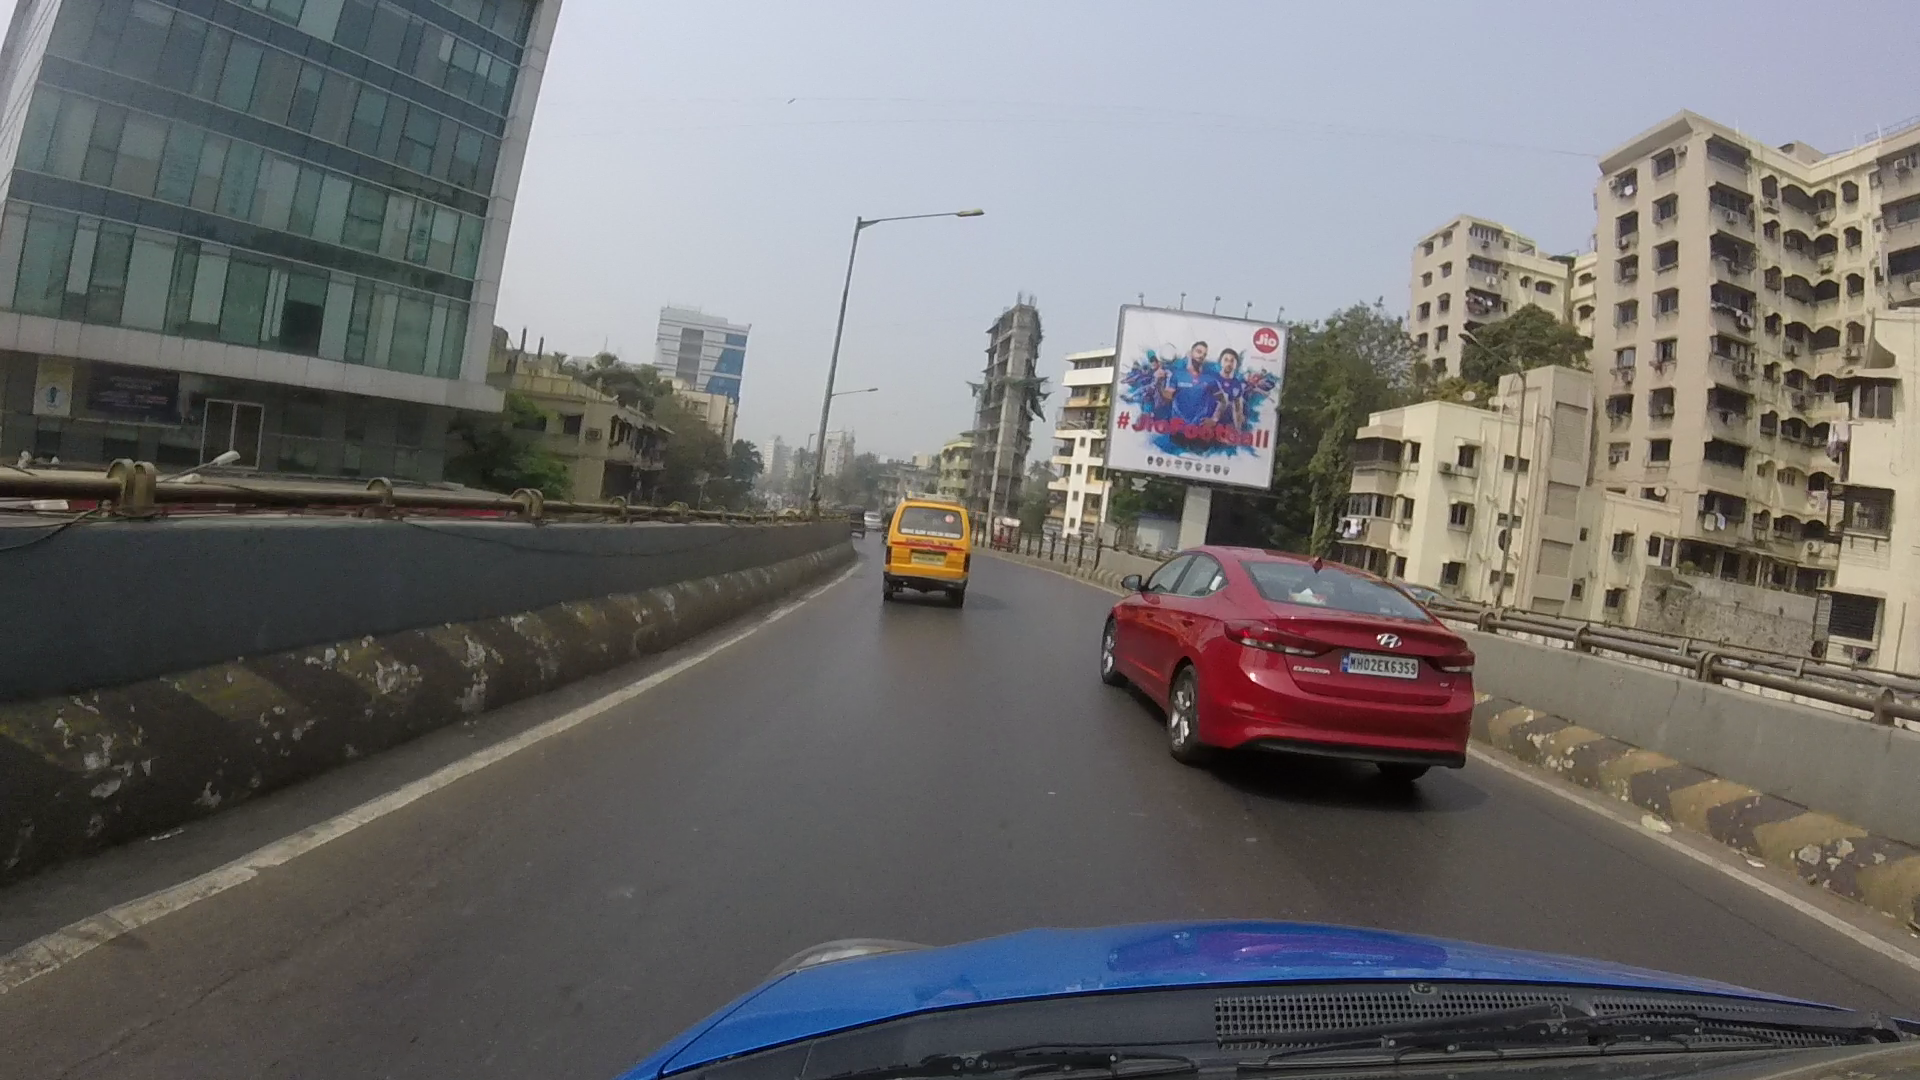car: (1113, 539, 1476, 777), (887, 492, 969, 592)
